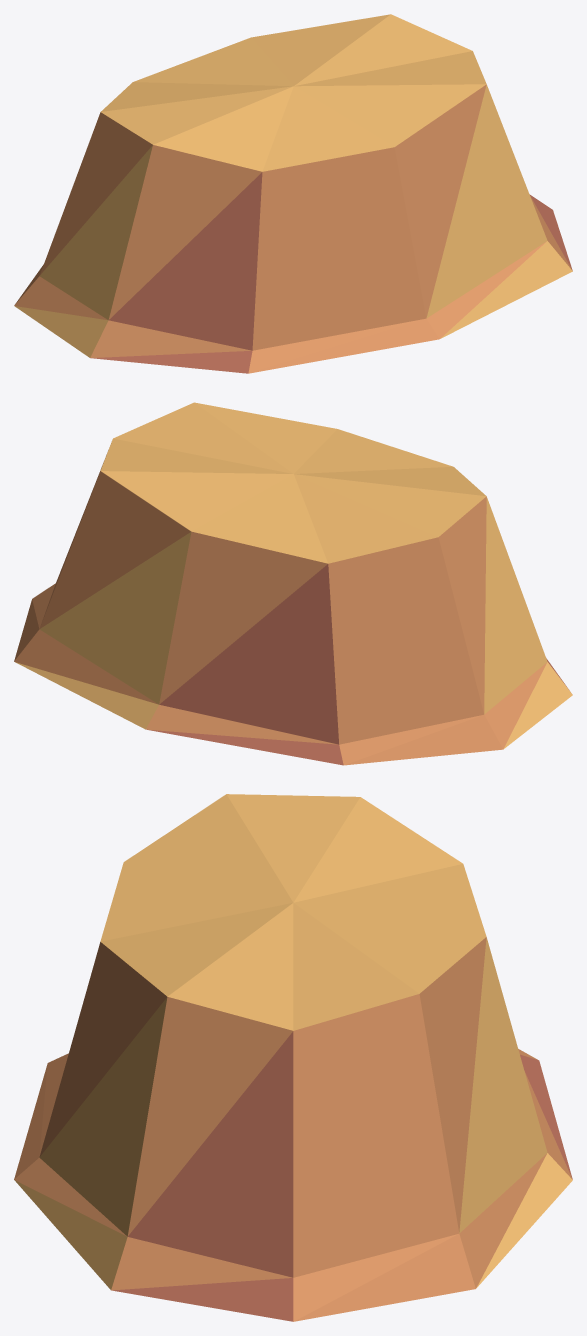
3 views of the same model, one above another, from view 1: azimuth 30°, elevation 25°; view 2: azimuth 150°, elevation 25°; view 3: azimuth 270°, elevation 25° (orthographic). The views are drawn at different scales.
Parts seen in each view (by area): view 1: 错层台地_3.001; view 2: 错层台地_3.001; view 3: 错层台地_3.001.
Boxes of the visible parts, x1,y1,x2,y2 form: 错层台地_3.001: (14,14,572,373); 错层台地_3.001: (14,402,572,765); 错层台地_3.001: (14,794,572,1321).
Bounding box in the file's own units: 0.8731 × 0.3138 × 0.6283.
